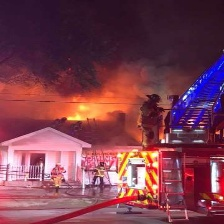fire: (67, 105, 96, 123)
smoke: (97, 7, 215, 99)
